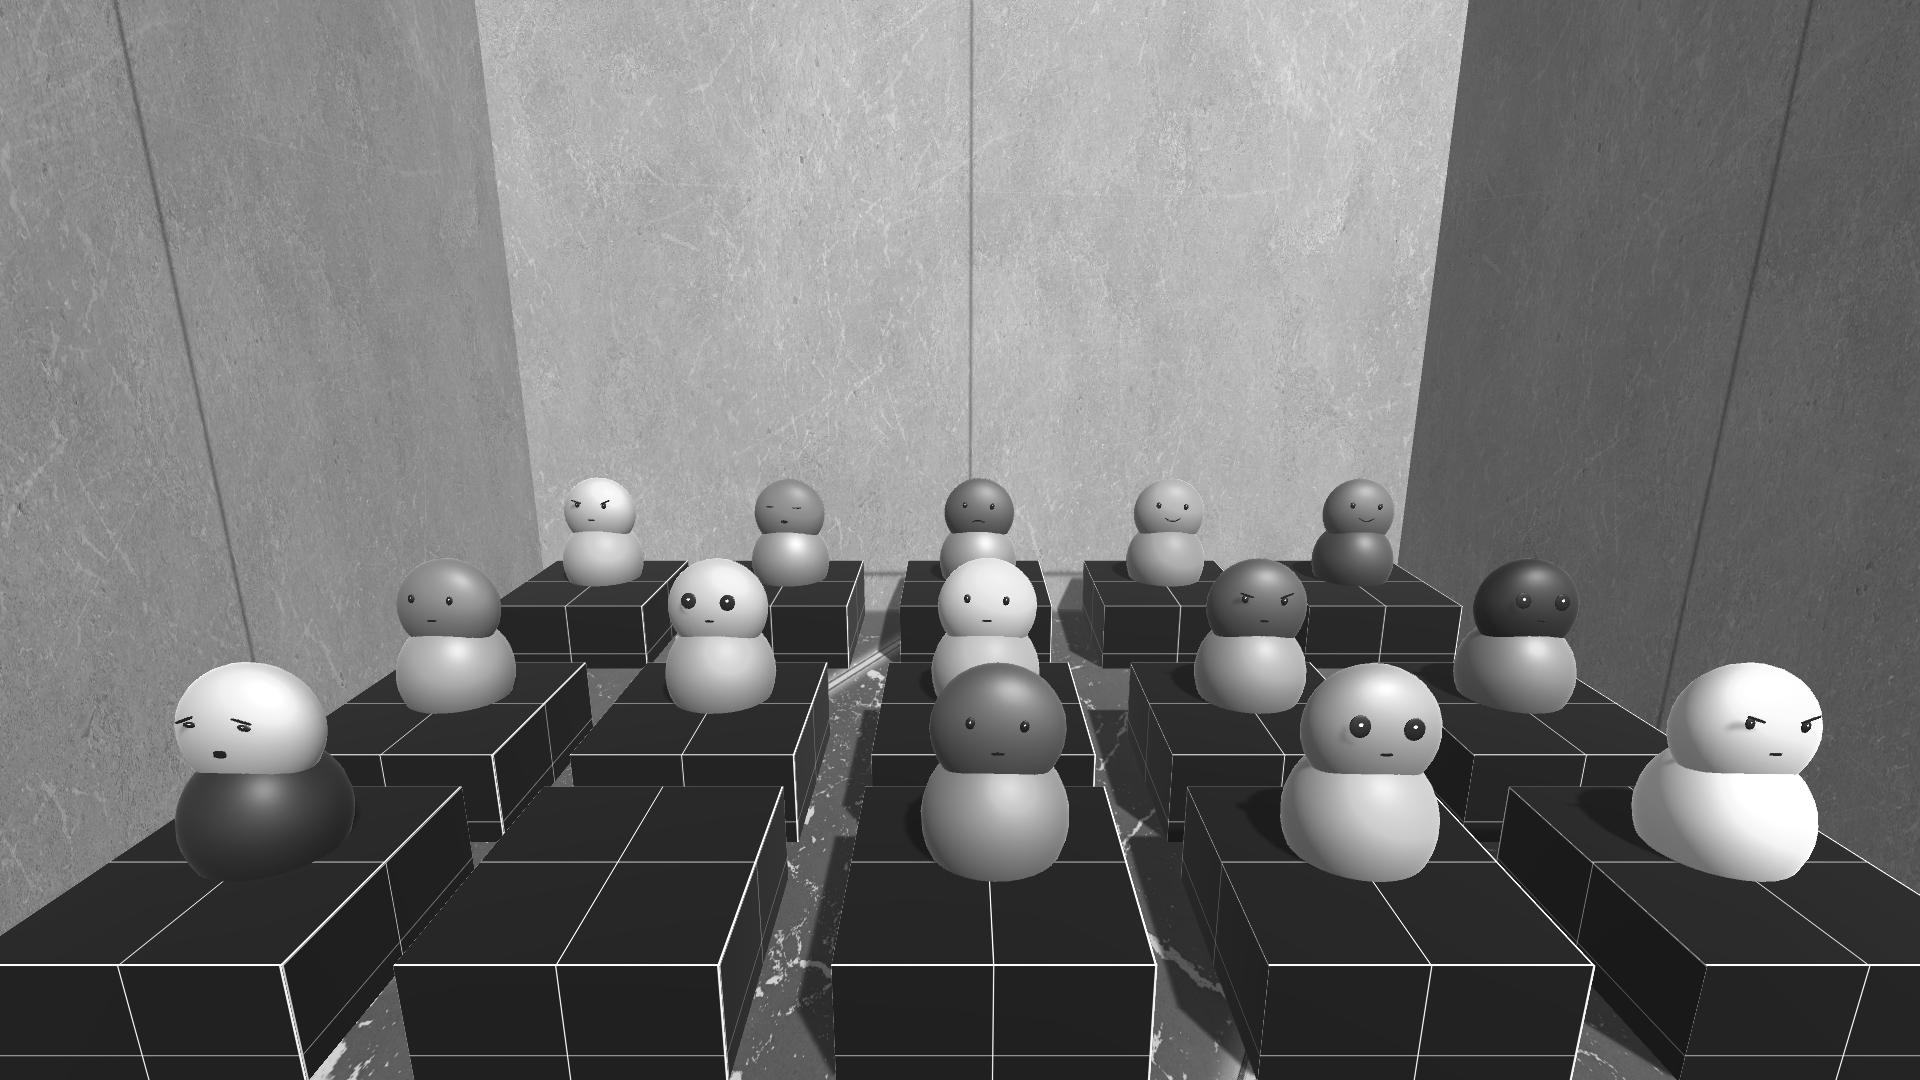blob_atento: (1291, 659, 1449, 785), (1474, 558, 1596, 645), (658, 555, 770, 636)
blob_dormindo: (754, 475, 831, 541)
blob_entediado: (158, 655, 332, 781)
blob_feliz: (1129, 479, 1212, 541), (1317, 479, 1402, 535)
blob_normal: (924, 657, 1081, 781), (386, 551, 508, 641), (931, 558, 1048, 641)
blob_raiva: (1656, 657, 1840, 778), (1201, 563, 1321, 647), (554, 477, 640, 535)
blob_triste: (942, 480, 1021, 542)
